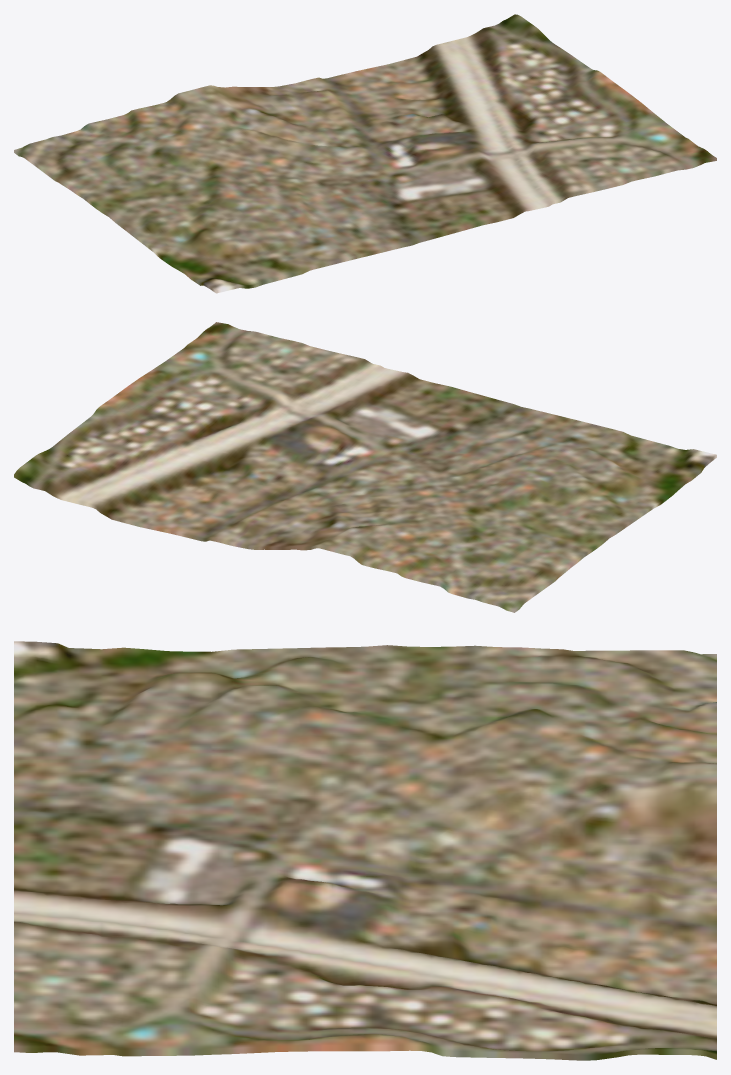
File: terrain_r1_c7_lod1.glb
3 renders of one model, top to bottom at view 1: azimuth 30°, elevation 25°; view 2: azimuth 150°, elevation 25°; view 3: azimuth 270°, elevation 25°, orthographic. The views are drawn at different scales.
Parts seen in each view (by area): view 1: terrain_r1_c7_lod1; view 2: terrain_r1_c7_lod1; view 3: terrain_r1_c7_lod1.
Part boxes in pixels (x1,y1,x2,y2): terrain_r1_c7_lod1: [14, 14, 716, 293]; terrain_r1_c7_lod1: [14, 322, 716, 612]; terrain_r1_c7_lod1: [14, 641, 716, 1060].
Bounding box in the file's own units: 1125 × 58.16 × 787.
Materials: 1 (1 with a texture image).
